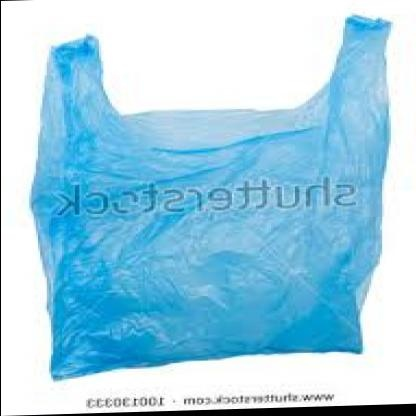trash: (32, 16, 389, 378)
